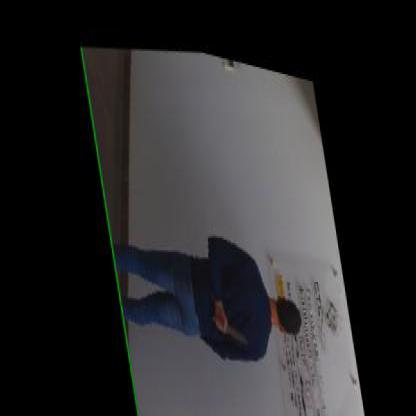knife: (204, 294, 245, 338)
